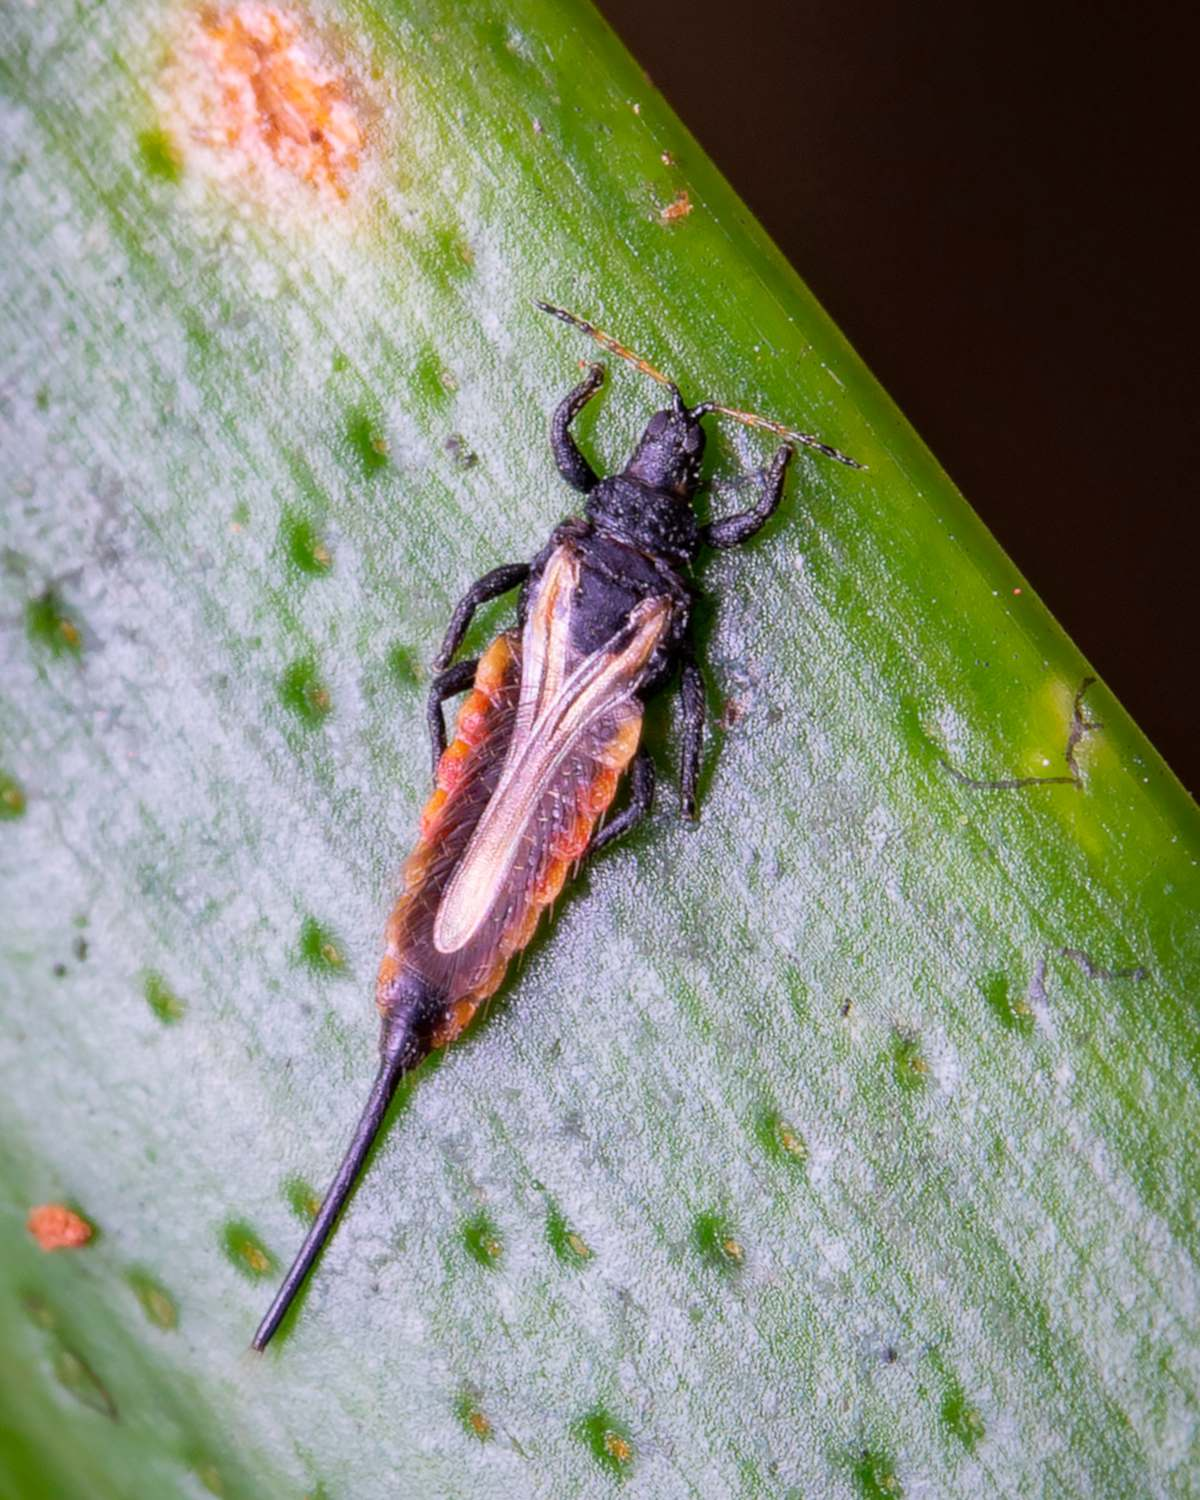Thrips: (277, 338, 836, 1381)
